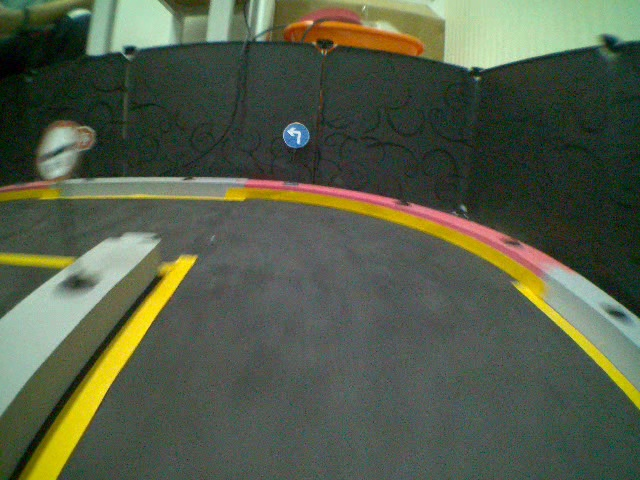Check: (35, 119, 81, 179)
turn: (281, 120, 313, 151)
